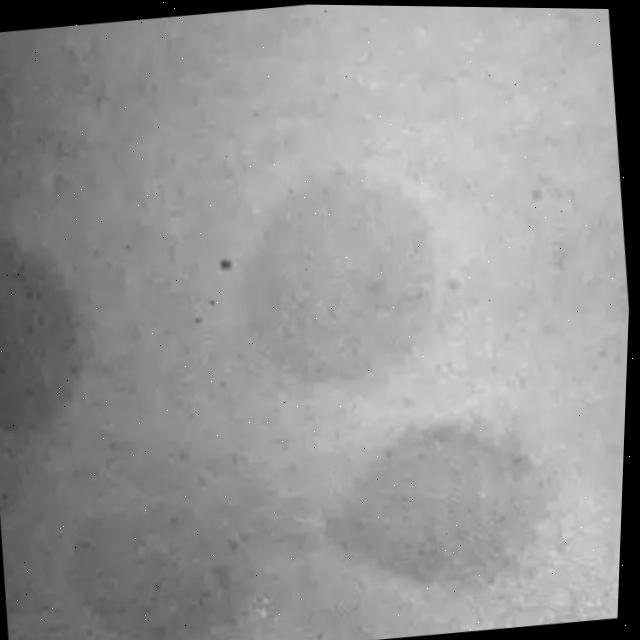Eczema: (216, 161, 454, 393), (315, 413, 560, 605), (63, 499, 274, 640), (0, 212, 104, 434)
